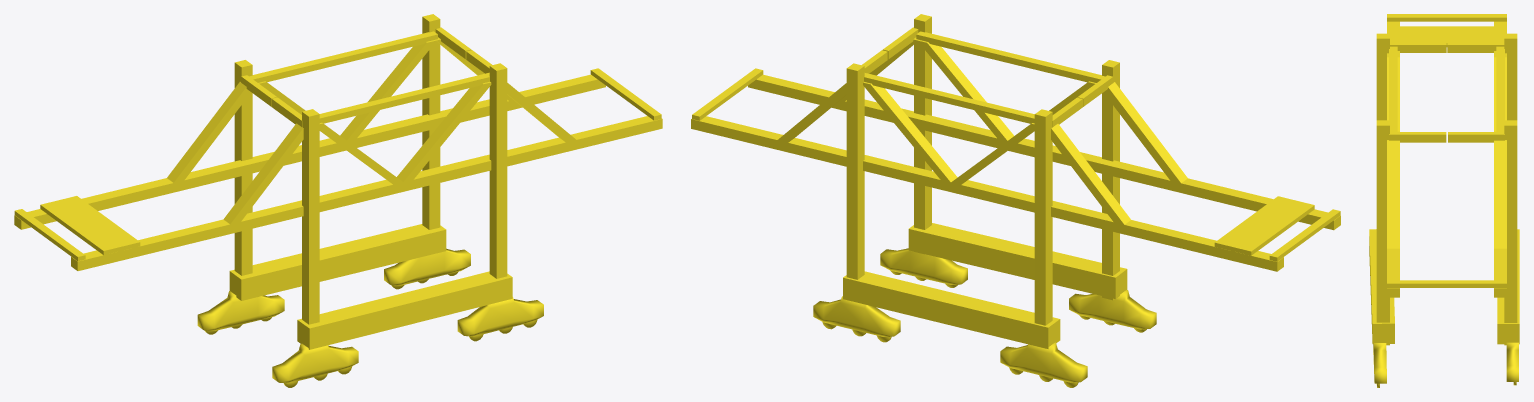
File: Mile_v2.fbx
3 views of the same model, side by side, from view 1: azimuth 30°, elevation 25°; view 2: azimuth 150°, elevation 25°; view 3: azimuth 270°, elevation 25° (orthographic). The views are drawn at different scales.
Parts seen in each view (by area): view 1: Cube_x0020_28.001; view 2: Cube_x0020_28.001; view 3: Cube_x0020_28.001.
Part boxes in pixels (x1=…): Cube_x0020_28.001: x1=14, y1=14, x2=662, y2=387; Cube_x0020_28.001: x1=691, y1=14, x2=1340, y2=387; Cube_x0020_28.001: x1=1369, y1=14, x2=1519, y2=387.
Bounding box in the file's own units: 69.88 × 30.26 × 16.44.
